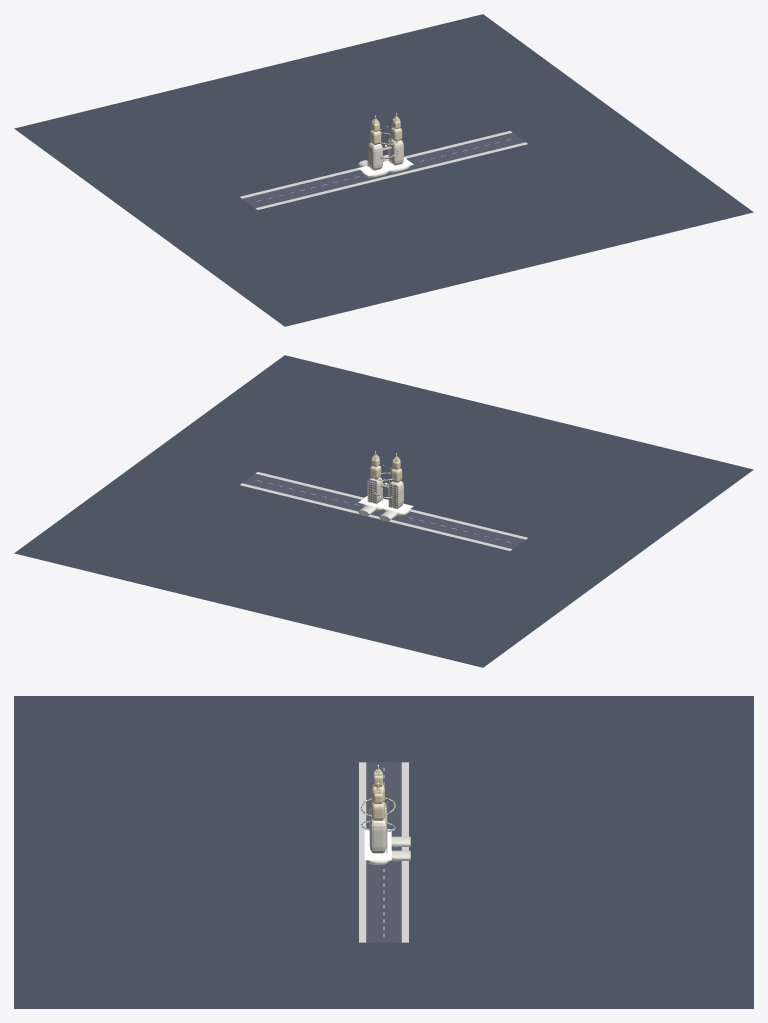
Rendered from studio-v3.glb.
3 views of the same model, one above another, from view 1: azimuth 30°, elevation 25°; view 2: azimuth 150°, elevation 25°; view 3: azimuth 270°, elevation 25° (orthographic). The views are drawn at different scales.
Parts seen in each view (by area): view 1: Ground, Avenue, Sidewalk_-1, Sidewalk_1; view 2: Ground, Avenue, Sidewalk_1, Sidewalk_-1; view 3: Ground, Avenue, Sidewalk_-1, Sidewalk_1, TowerB_Blk_0.
Boxes of the visible parts, x1,y1,x2,y2 form: Ground: (14, 14, 753, 326); Avenue: (243, 133, 524, 207); Sidewalk_-1: (255, 142, 527, 209); Sidewalk_1: (240, 131, 512, 198); Ground: (14, 355, 753, 667); Avenue: (243, 474, 524, 548); Sidewalk_1: (240, 483, 512, 550); Sidewalk_-1: (255, 472, 527, 539); Ground: (14, 696, 753, 1008); Avenue: (367, 762, 400, 942); Sidewalk_-1: (359, 762, 366, 942); Sidewalk_1: (401, 762, 408, 942); TowerB_Blk_0: (369, 818, 386, 853).
Bounding box in the file's own units: 520 × 62.51 × 520.
